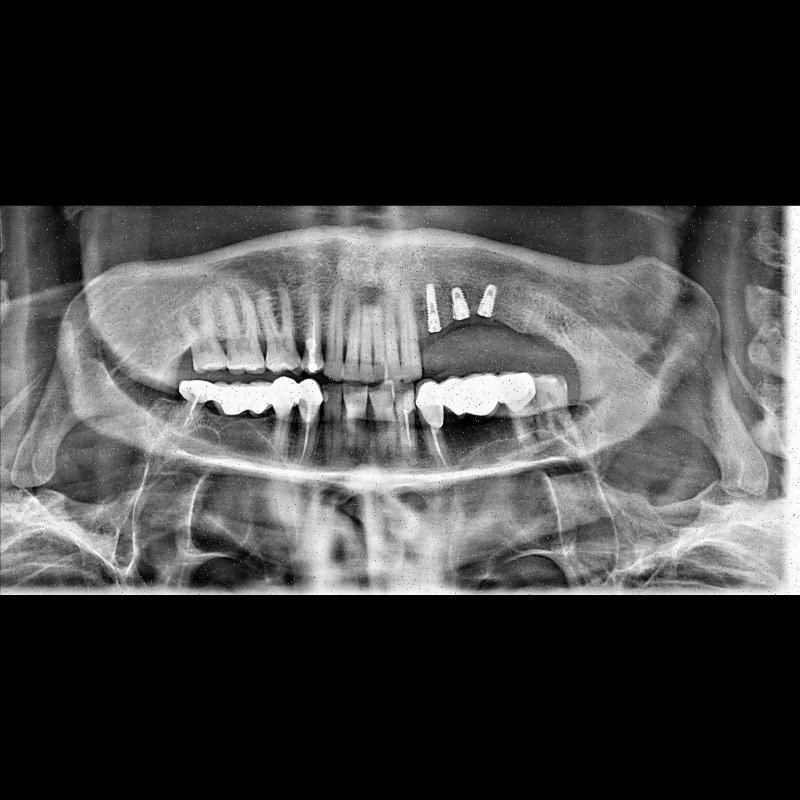osstem: (417, 278, 441, 336), (471, 278, 501, 320), (451, 281, 471, 321)
